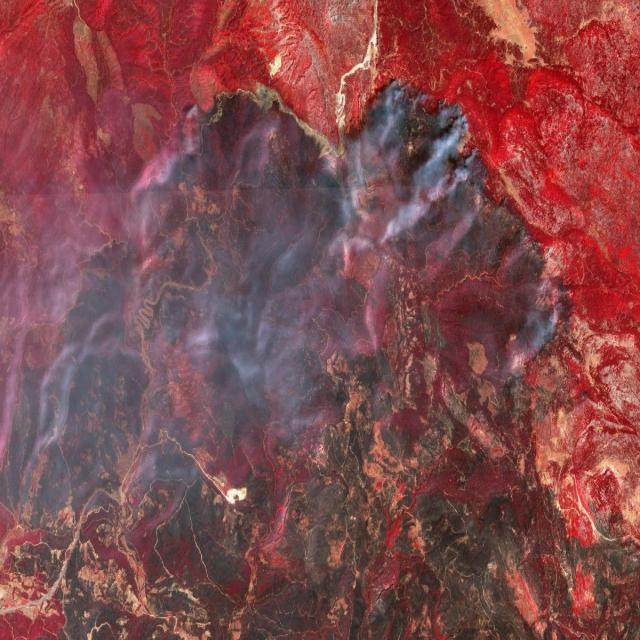fire: (129, 76, 284, 269), (361, 66, 495, 237)
